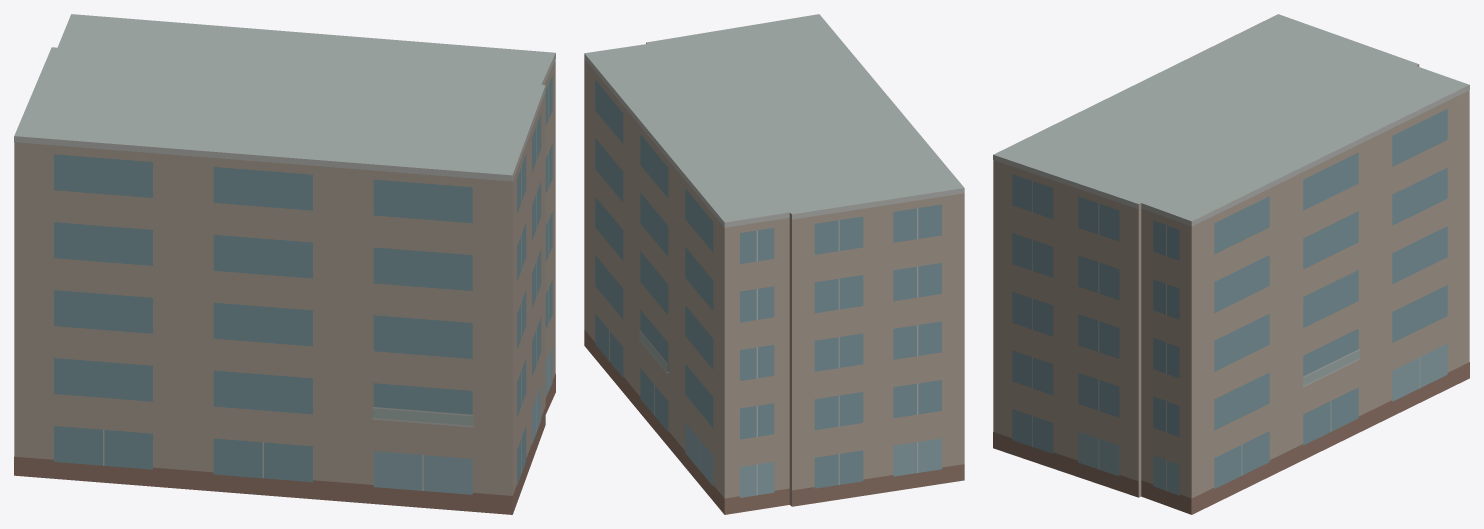
Rendered from survey-upis-32920298.glb.
The picture shows the model from 3 angles, left to right: view 1: azimuth 30°, elevation 25°; view 2: azimuth 150°, elevation 25°; view 3: azimuth 270°, elevation 25°; orthographic projection. The views are drawn at different scales.
Visible parts, largest first — view 1: survey-upis-32920298.tmp; view 2: survey-upis-32920298.tmp; view 3: survey-upis-32920298.tmp.
Boxes of the visible parts, x1,y1,x2,y2 form: survey-upis-32920298.tmp: (14, 14, 555, 514); survey-upis-32920298.tmp: (584, 14, 964, 514); survey-upis-32920298.tmp: (993, 14, 1469, 514).
Bounding box in the file's own units: 20.62 × 13.6 × 20.02.
